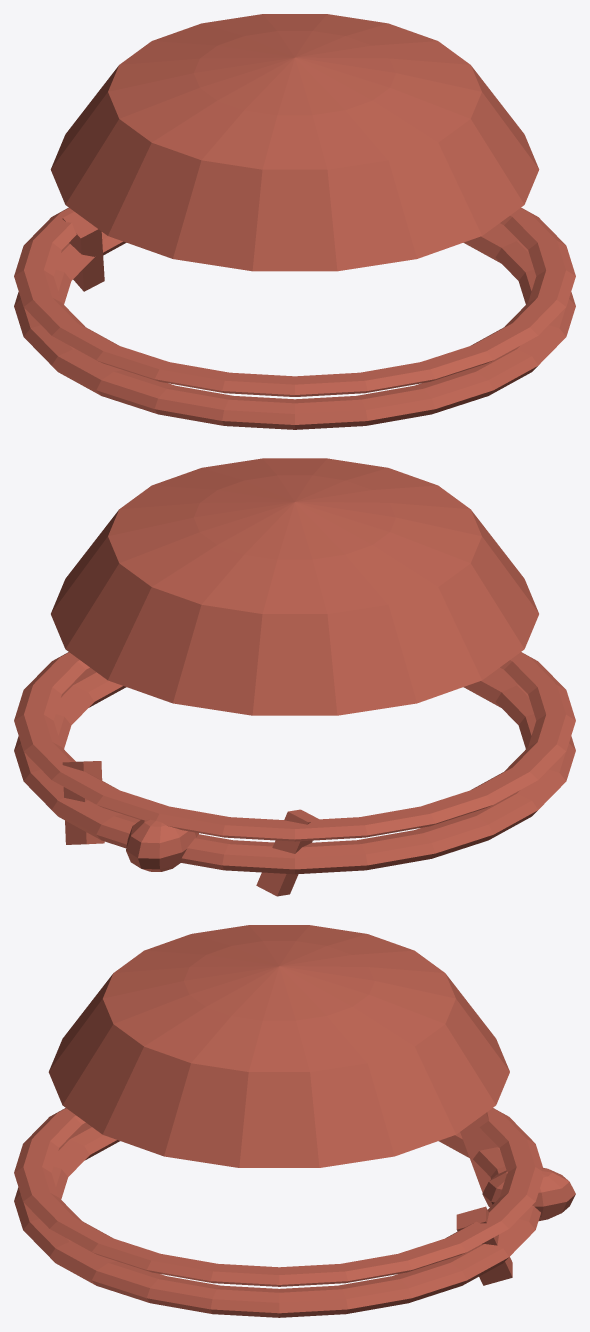
Rendered from bandana.fbx.
3 views of the same model, one above another, from view 1: azimuth 30°, elevation 25°; view 2: azimuth 150°, elevation 25°; view 3: azimuth 270°, elevation 25° (orthographic). The views are drawn at different scales.
Parts seen in each view (by area): view 1: bandana; view 2: bandana; view 3: bandana.
Part boxes in pixels (<box>): bandana: <box>14,14,575,429</box>; bandana: <box>14,458,575,896</box>; bandana: <box>14,925,575,1317</box>.
Size of the model in its own units: 0.34 by 0.1924 by 0.36.
